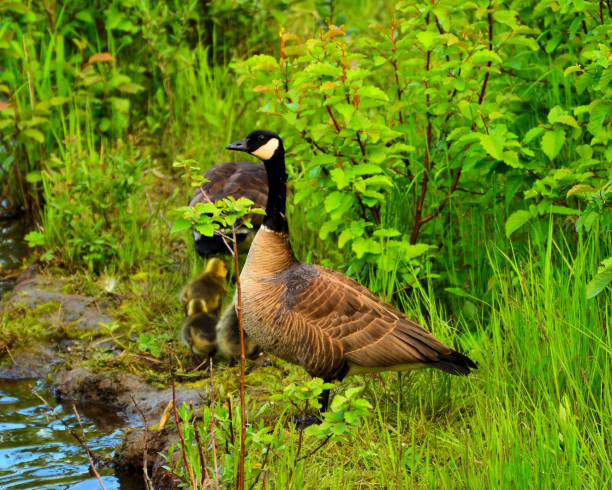goose: (221, 127, 481, 405), (185, 162, 267, 259)
